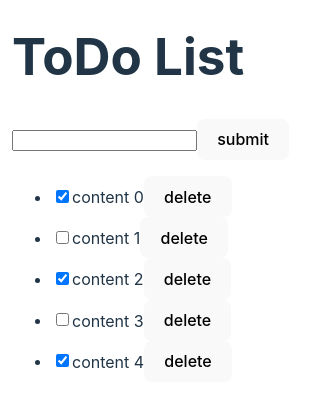
Test: Can add new todo
In the field: (104, 141) [12, 130, 197, 152], type "new todo"
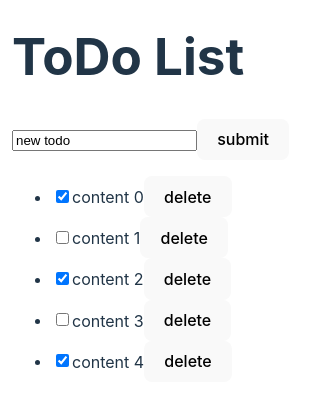
Click the submit button: (243, 140) [197, 119, 289, 160]
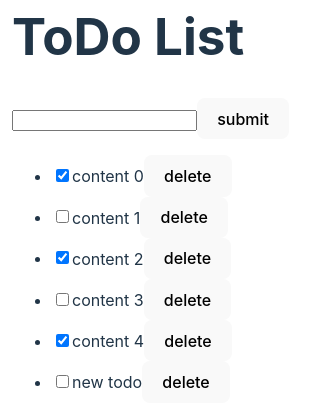
Expected: the number of list items is 6, [56, 156, 232, 197]; [56, 197, 228, 238]; [56, 238, 231, 279]; [56, 279, 232, 320]; [56, 320, 232, 361]; [56, 361, 230, 403]
